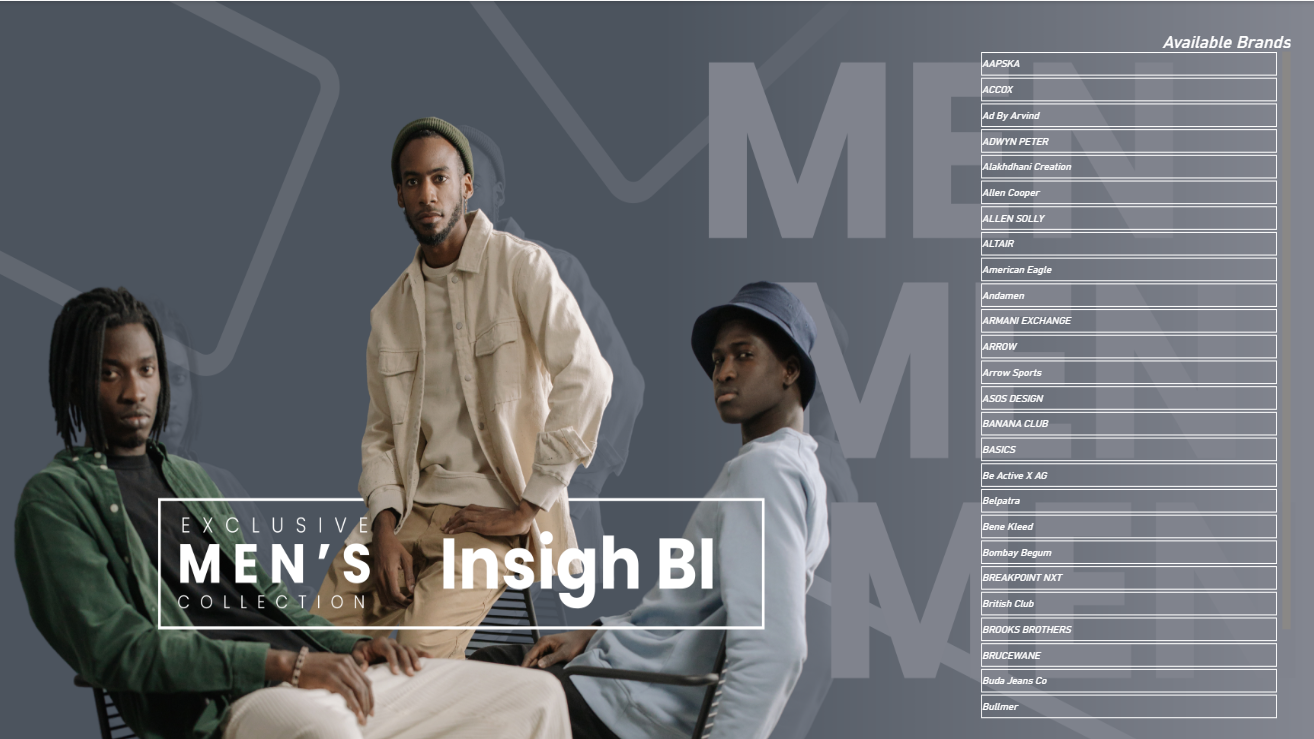

What the dashboard file says about the page in this screenshot:
{"tool":"powerbi","page":{"name":"Brands Overview","canvas":[1280,720],"ordinal":0},"visuals":[{"type":"cardVisual","title":"Available Brands","fields":{"Rows":["Tshirt.Brand"]},"box":[950.5,30.1,311.2,669.5],"z":0}]}

Visuals, with their boxes in screenshot pixels (x1, y1, x2, y2), scaled from the page's 1280x720 canvas onto the 1314x739 screenshot:
"Available Brands" cardVisual: 976 31 1295 718
